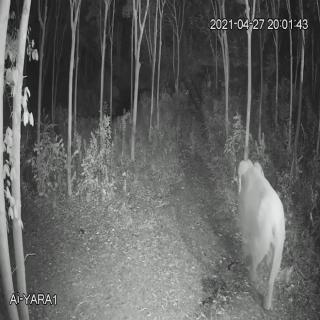Elephant: (229, 145, 292, 312)
